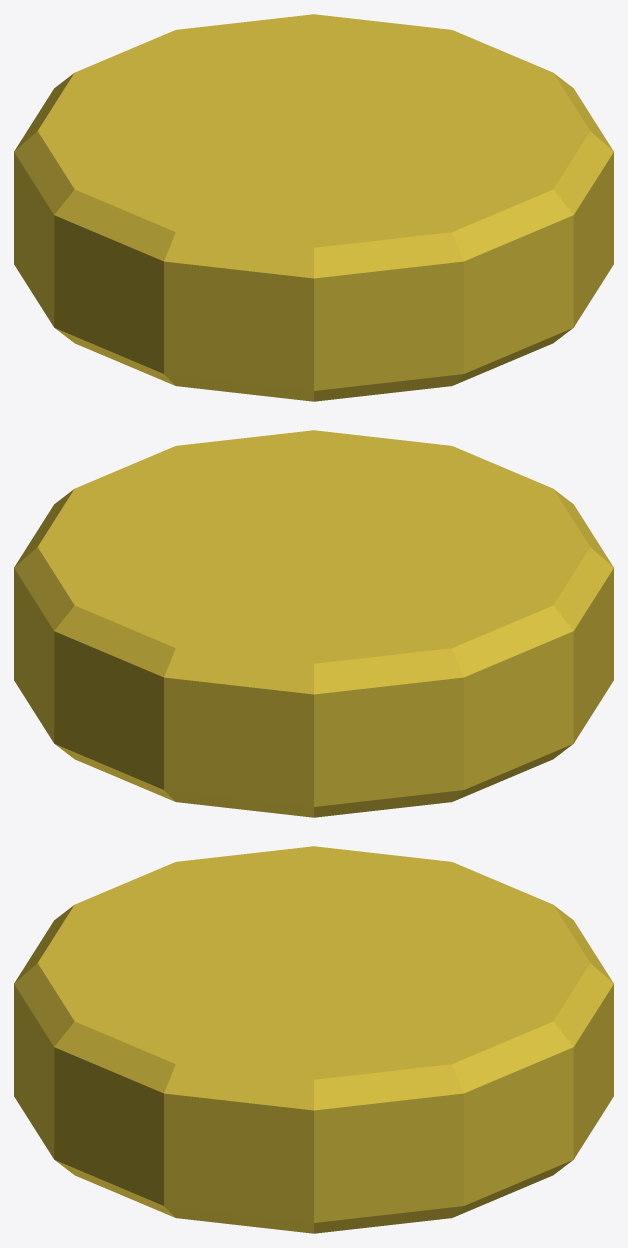
The model's file is SM_cheese.fbx.
3 renders of one model, top to bottom at view 1: azimuth 30°, elevation 25°; view 2: azimuth 150°, elevation 25°; view 3: azimuth 270°, elevation 25°, orthographic.
Visible parts, largest first — view 1: Cylinder071; view 2: Cylinder071; view 3: Cylinder071.
Part boxes in pixels (bbox=[...]): Cylinder071: bbox=[14, 14, 613, 401]; Cylinder071: bbox=[14, 430, 613, 817]; Cylinder071: bbox=[14, 846, 613, 1233].
Bounding box in the file's own units: 26.28 × 7.44 × 26.28.
